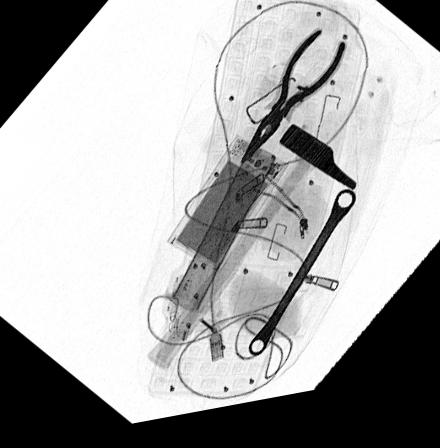Hammer: (146, 133, 357, 376)
Pliers: (240, 39, 347, 172)
Powerbank: (165, 141, 290, 281)
Wrench: (248, 200, 357, 366)
